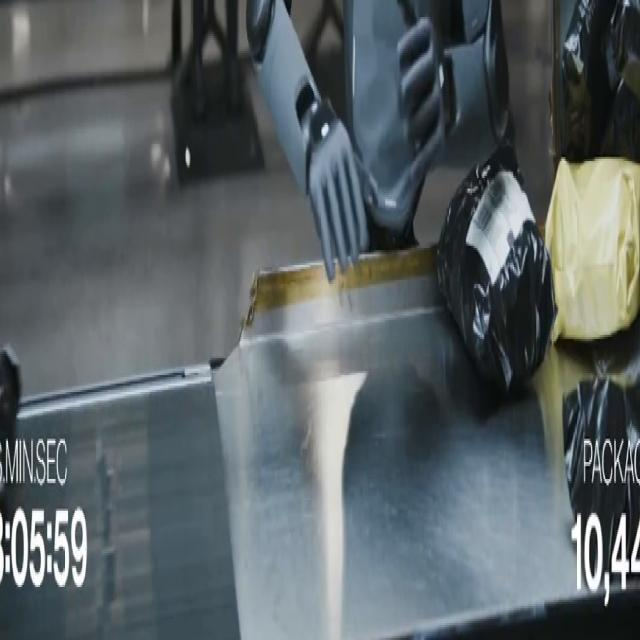package: (438, 145, 555, 394), (545, 159, 639, 341), (563, 378, 639, 574), (562, 0, 616, 163), (533, 344, 593, 478), (601, 83, 639, 163), (611, 0, 639, 99)
